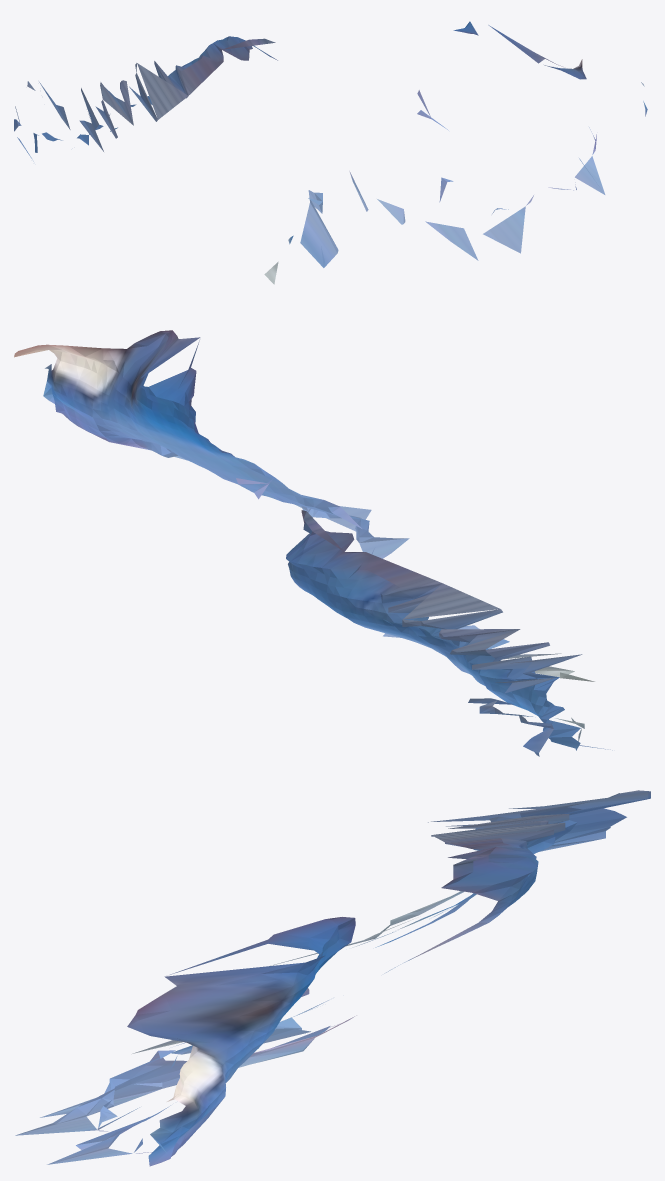
The model's file is observed-surface.glb.
3 renders of one model, top to bottom at view 1: azimuth 30°, elevation 25°; view 2: azimuth 150°, elevation 25°; view 3: azimuth 270°, elevation 25°, orthographic. The views are drawn at different scales.
Visible parts, largest first — view 1: geometry_0; view 2: geometry_0; view 3: geometry_0.
Part boxes in pixels (box(x1,y1,x2,y2)): geometry_0: box(14, 21, 647, 284); geometry_0: box(14, 330, 612, 756); geometry_0: box(15, 790, 650, 1166).
Size of the model in its own units: 0.6439 by 0.2264 by 0.4764.
Materials: 1 (1 with a texture image).
